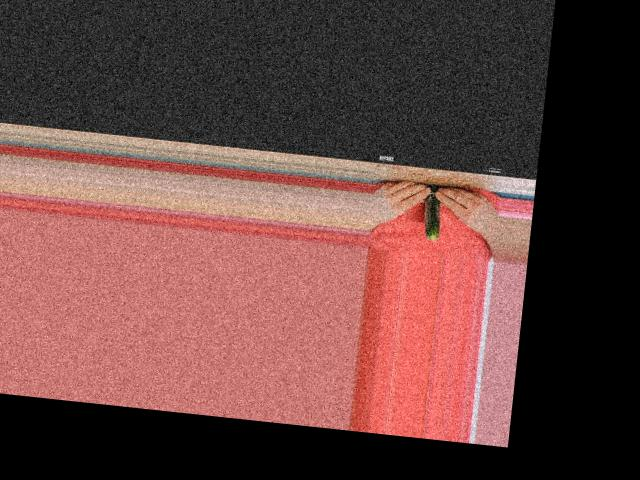cucumber: (421, 184, 445, 240)
